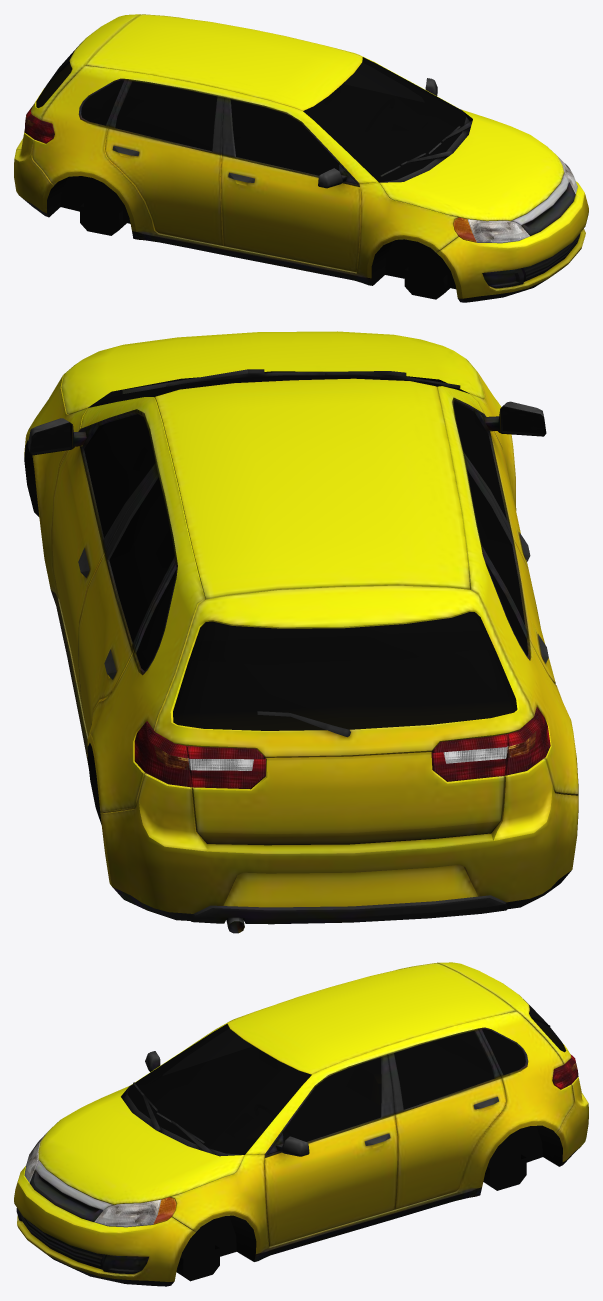
Rendered from auto-hatch.glb.
3 views of the same model, one above another, from view 1: azimuth 30°, elevation 25°; view 2: azimuth 150°, elevation 25°; view 3: azimuth 270°, elevation 25° (orthographic). The views are drawn at different scales.
Visible parts, largest first — view 1: Hatchback Body; view 2: Hatchback Body; view 3: Hatchback Body.
Part boxes in pixels (x1=…): Hatchback Body: x1=14, y1=14, x2=588, y2=302; Hatchback Body: x1=24, y1=331, x2=578, y2=933; Hatchback Body: x1=14, y1=962, x2=588, y2=1286.
Size of the model in its own units: 3.11 by 1.22 by 3.7.
3 materials, 2 textured.
